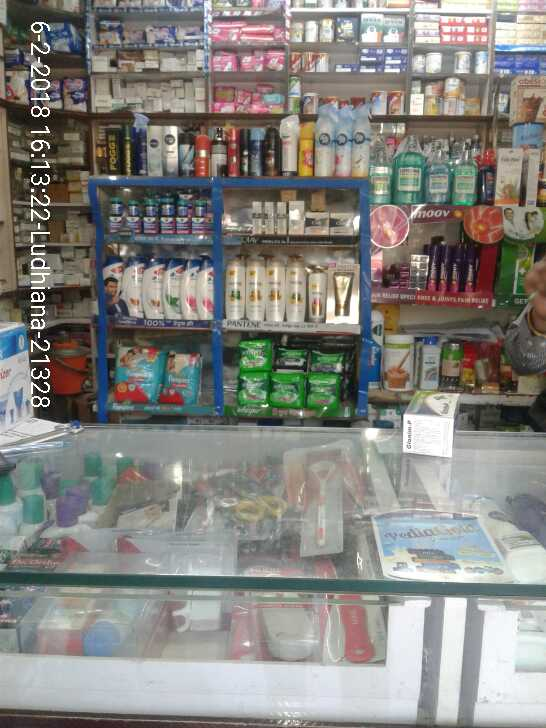vicks: (104, 187, 213, 245)
